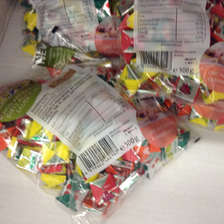candy: (3, 70, 189, 212), (113, 2, 224, 128)
